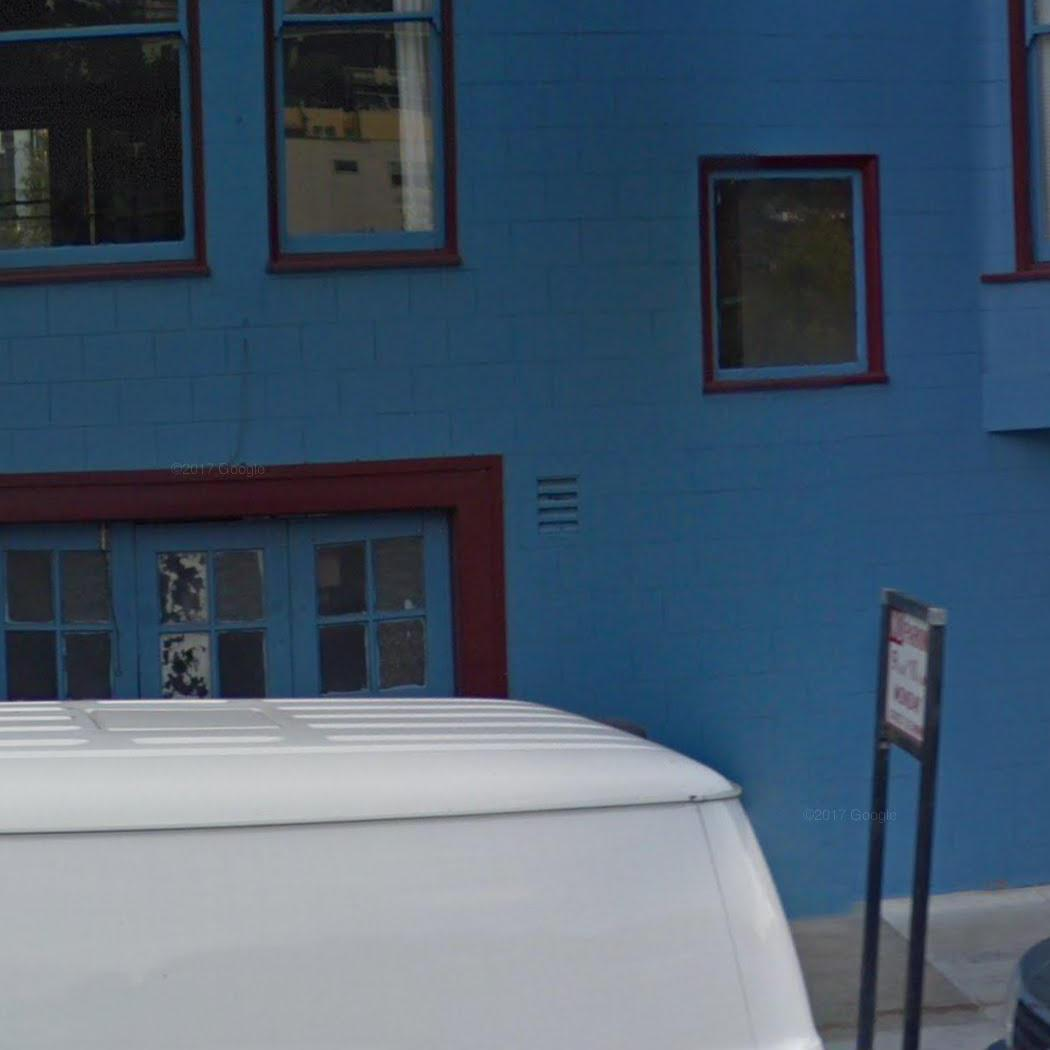No Parking: (878, 595, 950, 756)
